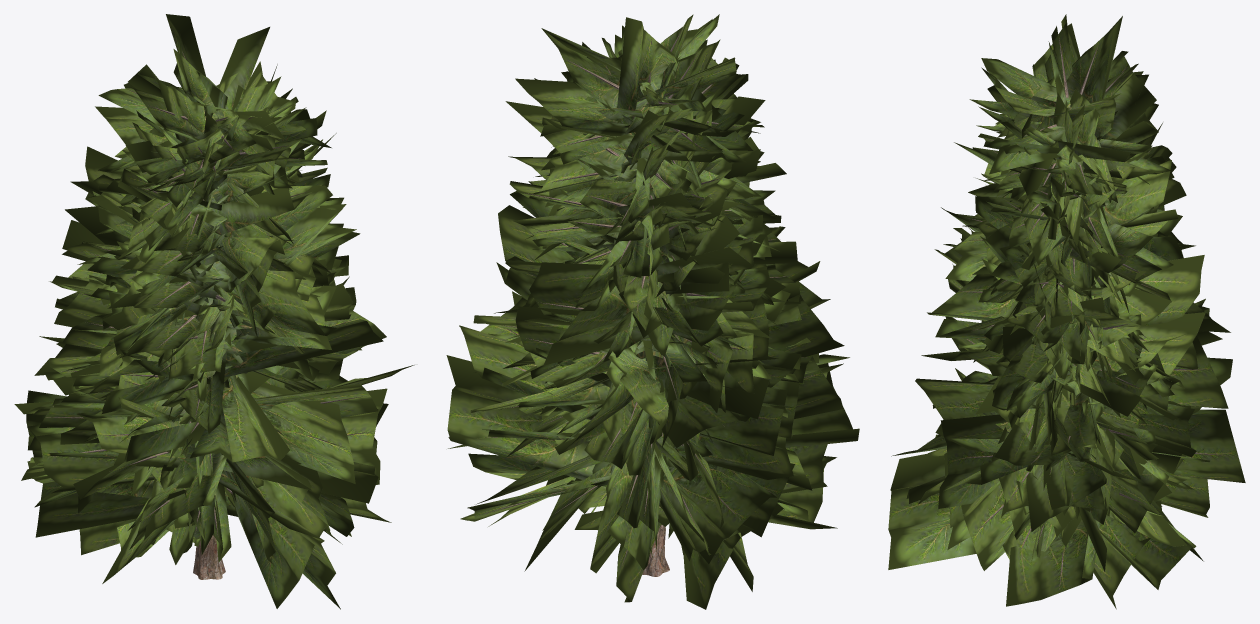
File: pine_tree_01.glb
3 renders of one model, left to right at view 1: azimuth 30°, elevation 25°; view 2: azimuth 150°, elevation 25°; view 3: azimuth 270°, elevation 25°, orthographic. The views are drawn at different scales.
Visible parts, largest first — view 1: tree; view 2: tree; view 3: tree.
Part boxes in pixels (box(x1,y1,x2,y2)): tree: box(14, 14, 414, 609); tree: box(446, 14, 859, 609); tree: box(888, 14, 1245, 609).
Size of the model in its own units: 396 by 597 by 355.
4 materials, 4 textured.
